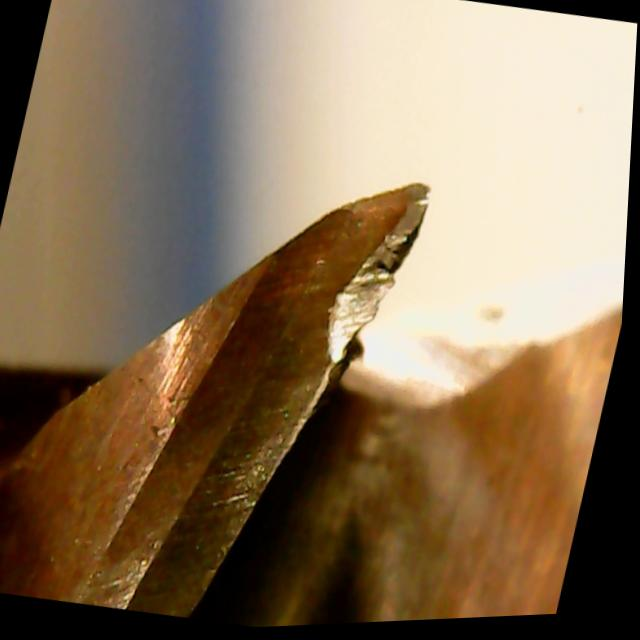Tool-wear-class-3: (188, 138, 474, 516)
